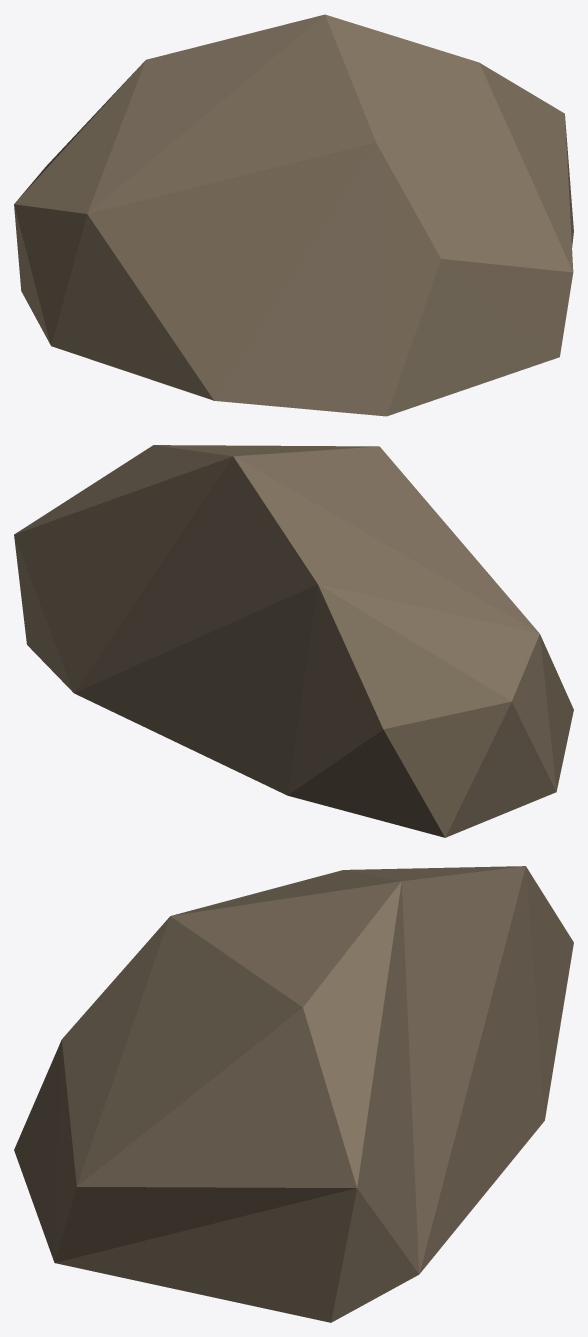
The model's file is Stone_1_brown_mat.fbx.
3 views of the same model, one above another, from view 1: azimuth 30°, elevation 25°; view 2: azimuth 150°, elevation 25°; view 3: azimuth 270°, elevation 25° (orthographic). The views are drawn at different scales.
Parts seen in each view (by area): view 1: Stone_1_brown_mat; view 2: Stone_1_brown_mat; view 3: Stone_1_brown_mat.
Part boxes in pixels (x1=…): Stone_1_brown_mat: x1=14, y1=14, x2=573, y2=416; Stone_1_brown_mat: x1=14, y1=445, x2=573, y2=837; Stone_1_brown_mat: x1=14, y1=866, x2=573, y2=1322.
Bounding box in the file's own units: 51.15 × 25.34 × 39.42.
